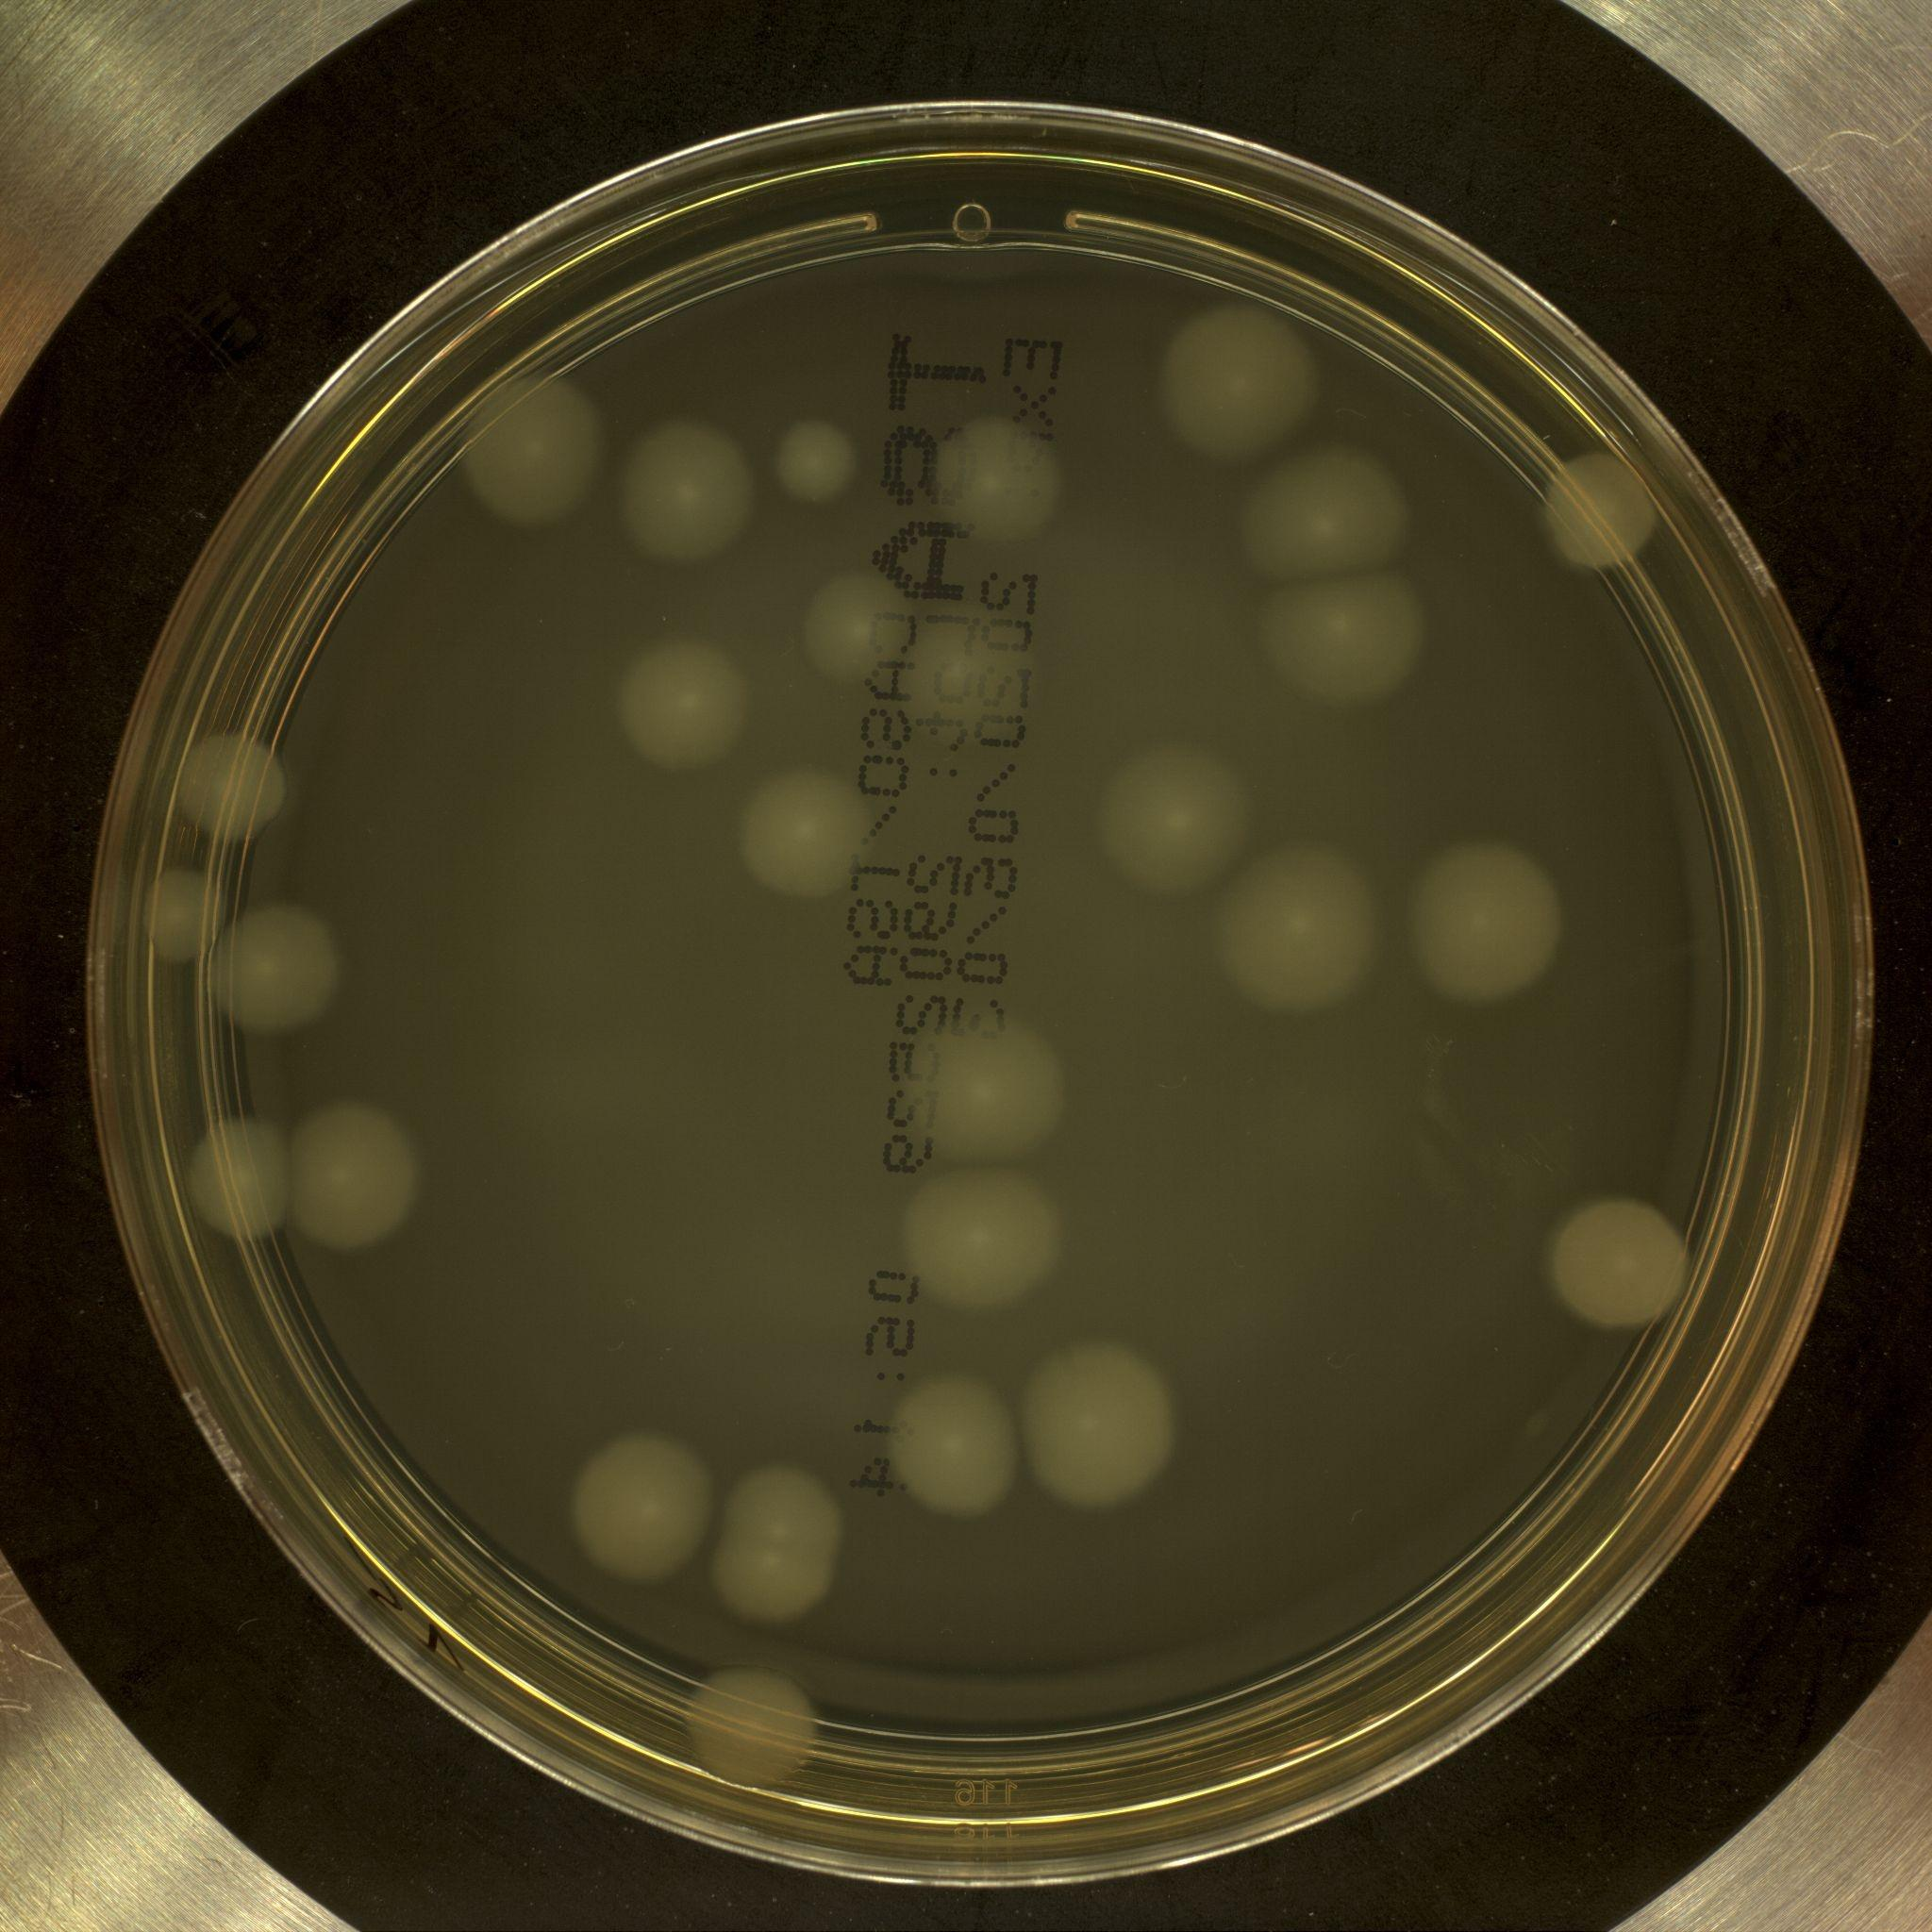e. coli: (1407, 825, 1582, 1024), (1214, 840, 1402, 1019), (888, 1160, 1087, 1321), (892, 1005, 1077, 1174), (1024, 1340, 1191, 1519), (454, 358, 620, 533), (1246, 434, 1441, 580), (1279, 557, 1459, 712), (704, 1453, 860, 1627), (1148, 292, 1312, 448), (563, 1424, 718, 1590), (284, 1090, 431, 1259), (185, 906, 356, 1052), (1549, 1189, 1708, 1344), (619, 410, 766, 575), (737, 764, 889, 920), (925, 406, 1087, 552), (1106, 731, 1251, 891), (884, 1373, 1024, 1533), (675, 1670, 837, 1807), (619, 637, 766, 774), (1544, 439, 1675, 585), (907, 608, 1058, 731), (180, 722, 299, 849), (191, 1118, 303, 1231), (799, 561, 911, 675), (760, 401, 874, 505), (134, 873, 237, 958)
